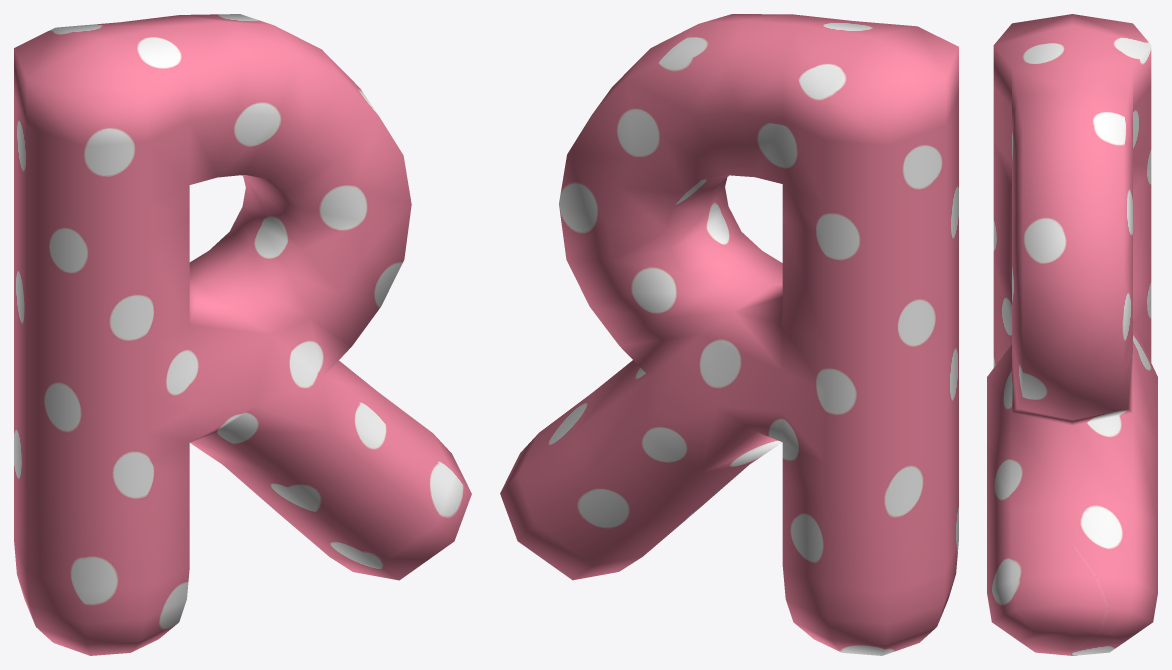
File: R (lien hoang's conflicted copy 2015-06-18).fbx
3 views of the same model, side by side, from view 1: azimuth 30°, elevation 25°; view 2: azimuth 150°, elevation 25°; view 3: azimuth 270°, elevation 25° (orthographic). The views are drawn at different scales.
Parts seen in each view (by area): view 1: R_mesh; view 2: R_mesh; view 3: R_mesh.
Part boxes in pixels (x1,y1,x2,y2): R_mesh: (14, 14, 471, 655); R_mesh: (500, 14, 958, 655); R_mesh: (987, 14, 1157, 655).
Size of the model in its own units: 1.67 by 2.26 by 0.677.
